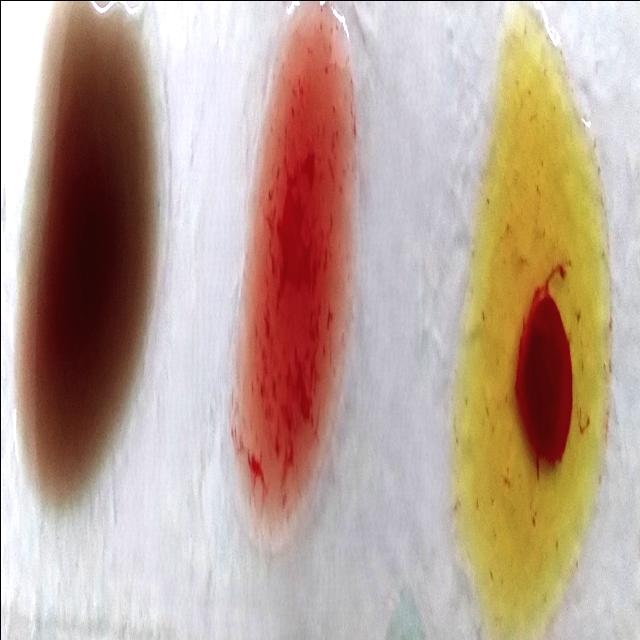B: (464, 24, 606, 640)
D: (230, 19, 357, 530)
